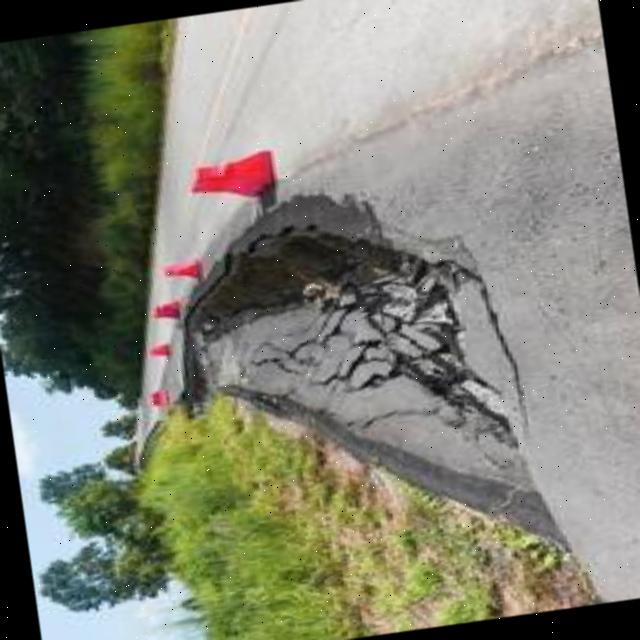road collapse: (84, 116, 640, 634)
